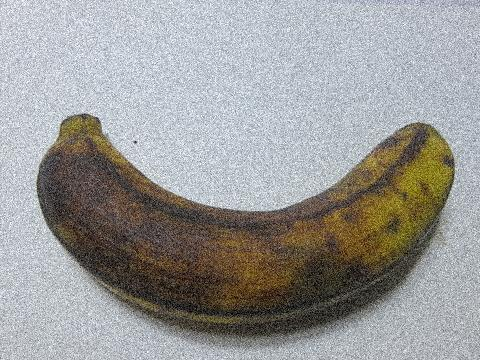overripe: (23, 96, 465, 333)
